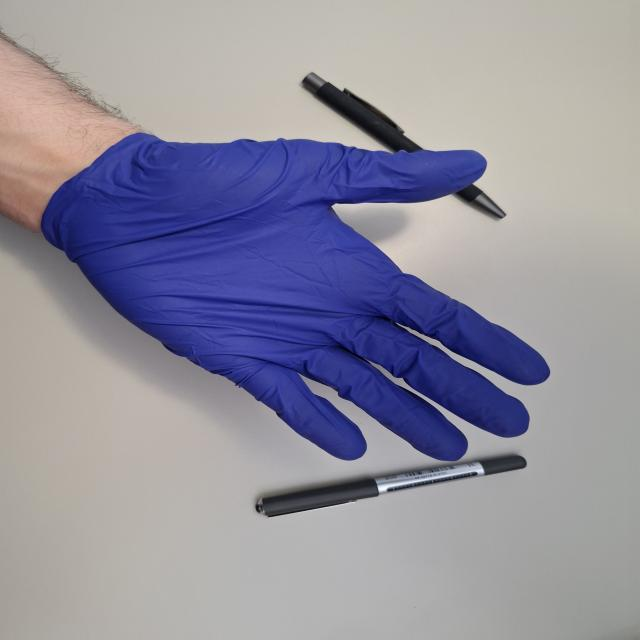glove_on: (37, 127, 553, 458)
